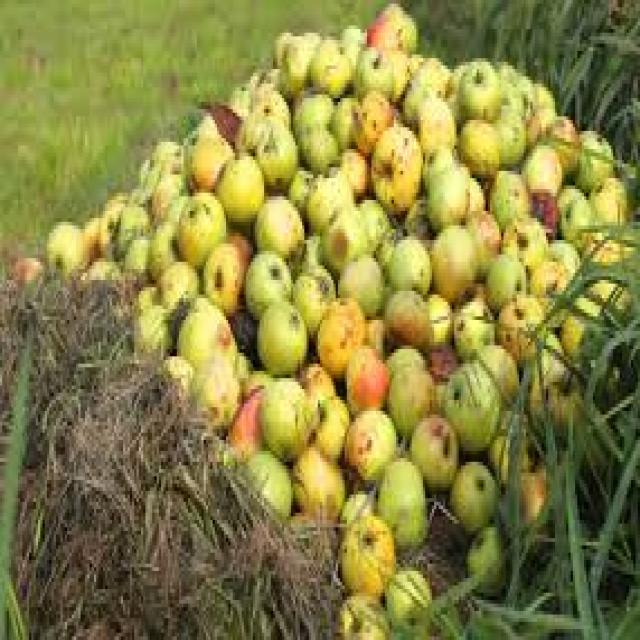organic waste: (376, 451, 430, 553), (443, 356, 497, 454), (369, 116, 421, 215), (334, 509, 392, 596), (255, 371, 311, 458), (286, 440, 342, 516), (486, 407, 539, 484), (499, 462, 548, 545), (240, 440, 288, 524), (445, 454, 497, 531), (190, 342, 240, 422), (342, 404, 394, 480), (251, 189, 302, 266), (175, 185, 226, 262), (316, 294, 364, 374), (378, 280, 432, 349), (253, 298, 306, 367), (248, 113, 296, 189), (177, 294, 233, 356), (212, 149, 262, 218), (202, 229, 246, 306), (450, 113, 499, 182), (342, 338, 388, 411), (552, 302, 600, 371), (463, 520, 508, 593), (316, 204, 364, 272), (430, 218, 474, 291), (289, 262, 331, 338), (389, 367, 432, 440), (244, 240, 289, 309), (367, 0, 416, 62), (186, 113, 228, 185), (492, 291, 540, 353), (146, 200, 183, 280), (304, 160, 349, 225), (400, 51, 446, 113), (483, 247, 526, 313), (387, 229, 430, 295), (423, 156, 468, 218), (454, 55, 499, 116), (486, 163, 528, 226), (311, 389, 351, 455), (383, 564, 425, 626), (336, 251, 378, 313), (555, 185, 593, 251), (497, 211, 546, 262), (123, 211, 172, 262), (479, 334, 519, 396), (351, 40, 396, 95), (307, 33, 349, 91), (521, 138, 562, 196), (412, 95, 456, 149), (128, 302, 172, 356), (463, 204, 499, 269), (291, 116, 338, 164), (530, 324, 566, 386), (334, 589, 381, 636), (573, 128, 611, 186), (582, 229, 631, 273), (580, 276, 628, 320), (96, 185, 128, 251), (112, 196, 150, 251), (288, 84, 336, 127), (45, 215, 83, 269), (157, 258, 199, 306), (333, 487, 374, 535), (226, 386, 257, 448), (544, 113, 577, 171), (354, 193, 389, 247), (352, 91, 389, 142), (282, 33, 311, 98), (530, 258, 564, 313), (333, 145, 367, 200), (201, 95, 244, 138), (248, 87, 286, 135), (141, 131, 183, 174), (421, 288, 452, 346), (589, 171, 622, 225), (494, 102, 524, 160), (148, 171, 184, 218), (298, 356, 336, 400), (418, 134, 452, 182), (291, 226, 322, 276), (501, 73, 537, 116), (80, 211, 110, 262), (372, 222, 398, 276), (425, 335, 457, 378), (546, 232, 580, 272), (329, 91, 354, 145), (387, 345, 423, 382), (530, 189, 560, 233), (327, 94, 351, 146), (398, 189, 428, 229), (7, 247, 40, 280), (226, 302, 253, 342), (242, 364, 275, 396), (363, 313, 387, 356), (166, 295, 190, 338), (338, 18, 369, 51), (284, 163, 304, 214), (159, 346, 190, 378), (80, 255, 118, 280), (441, 66, 459, 116), (526, 102, 553, 134), (125, 164, 144, 207), (235, 109, 257, 146), (230, 80, 253, 113), (271, 25, 291, 62), (428, 378, 446, 418), (468, 167, 486, 204), (394, 47, 409, 91), (134, 276, 154, 306), (264, 62, 282, 91), (532, 80, 552, 102), (286, 509, 309, 527), (488, 58, 512, 73), (248, 62, 262, 87)
